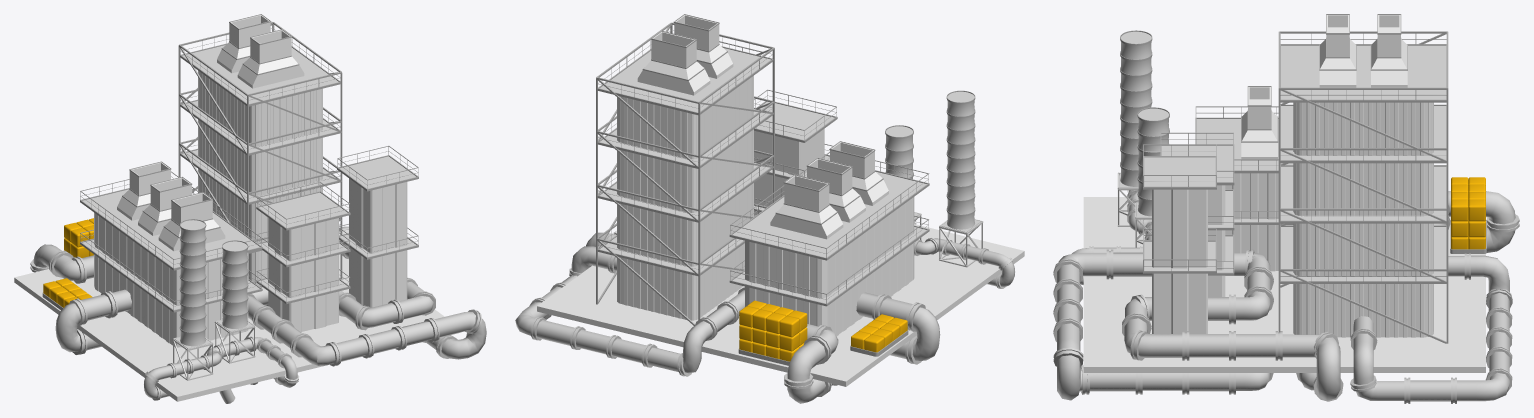
File: factory.gltf
The picture shows the model from 3 angles, left to right: view 1: azimuth 30°, elevation 25°; view 2: azimuth 150°, elevation 25°; view 3: azimuth 270°, elevation 25°; orthographic projection. The views are drawn at different scales.
Parts seen in each view (by area): view 1: factory; view 2: factory; view 3: factory.
Boxes of the visible parts, left/top/right/bottom form: factory: left=14, top=14, right=486, bottom=403; factory: left=515, top=14, right=1024, bottom=403; factory: left=1053, top=14, right=1519, bottom=403.
Size of the model in its own units: 13.71 by 11.18 by 13.91.
